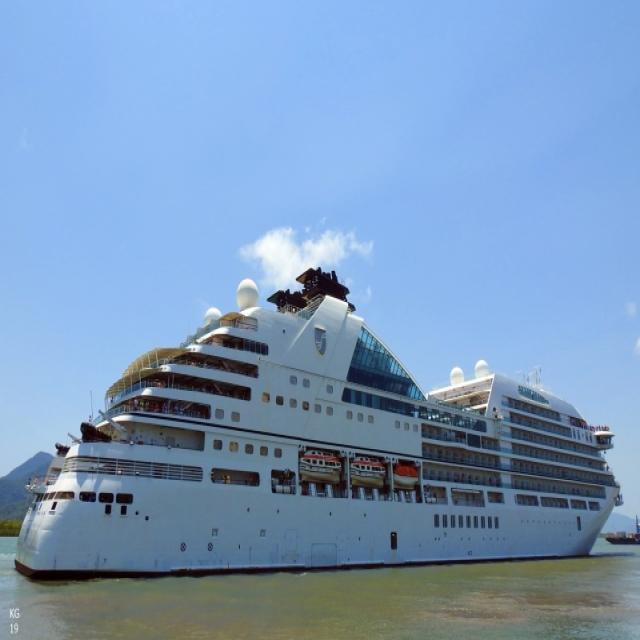cruises: (11, 260, 625, 600)
